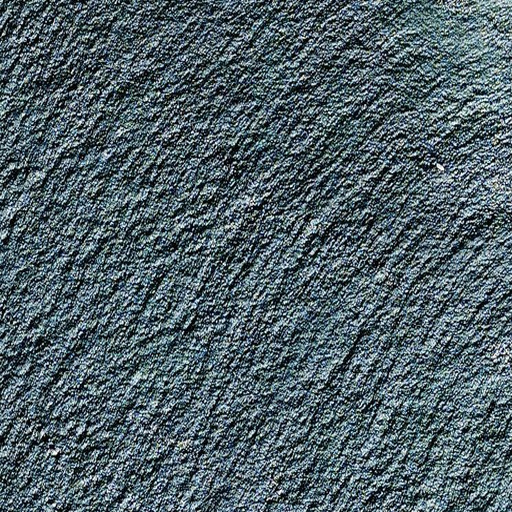ship: (435, 164, 446, 172)
